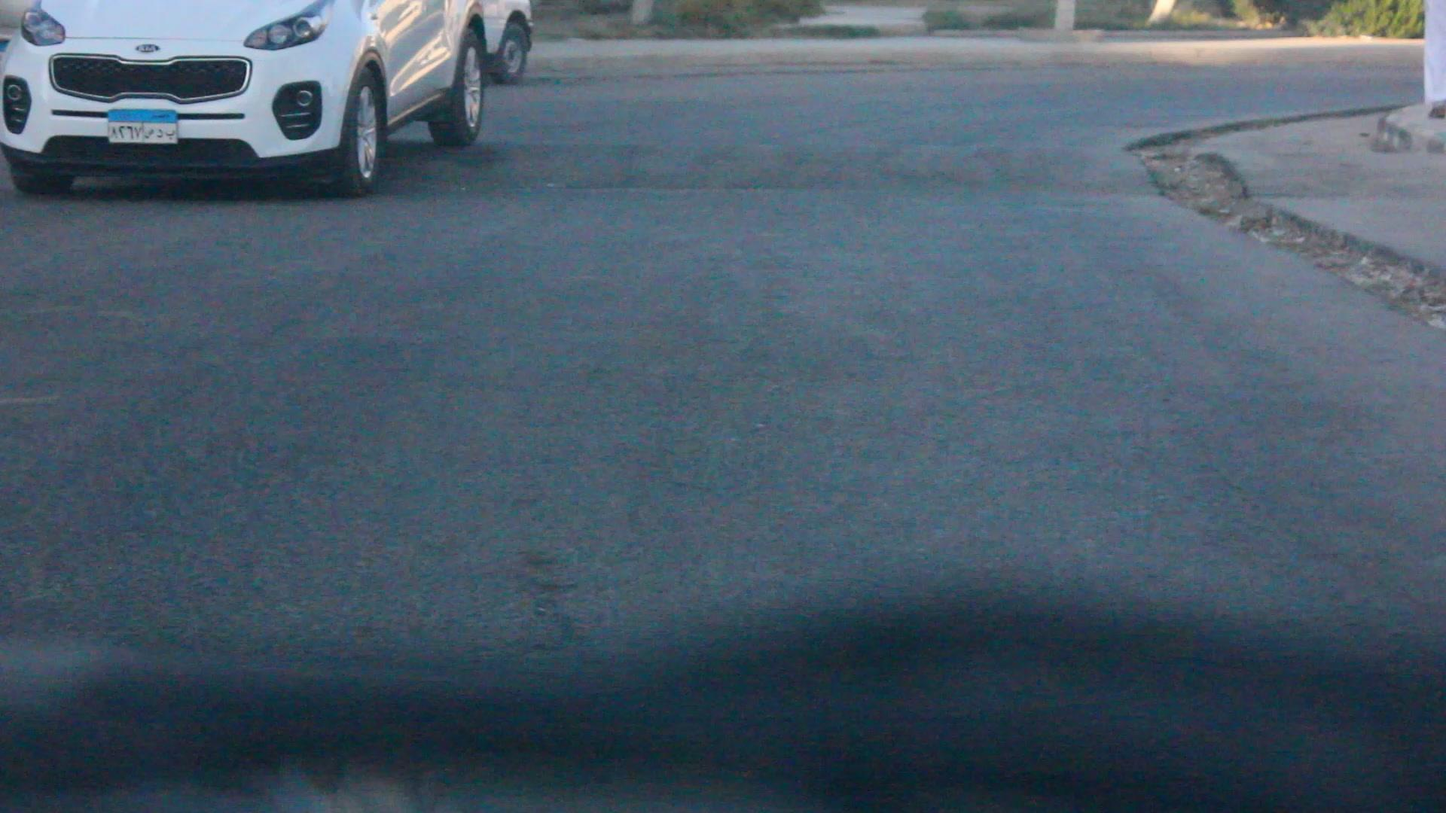Bump: (397, 130, 1162, 209)
